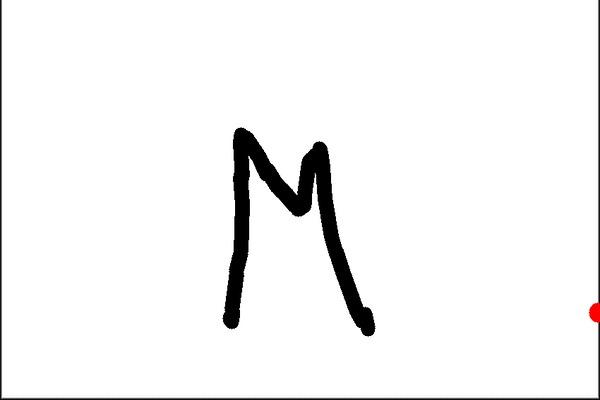M: (213, 122, 378, 336)
